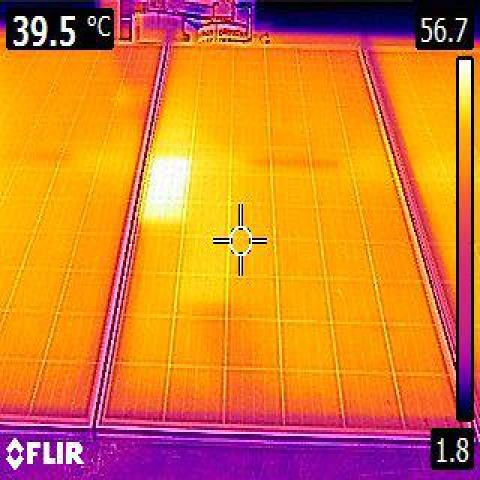fault: (152, 142, 189, 176), (148, 174, 185, 206)
